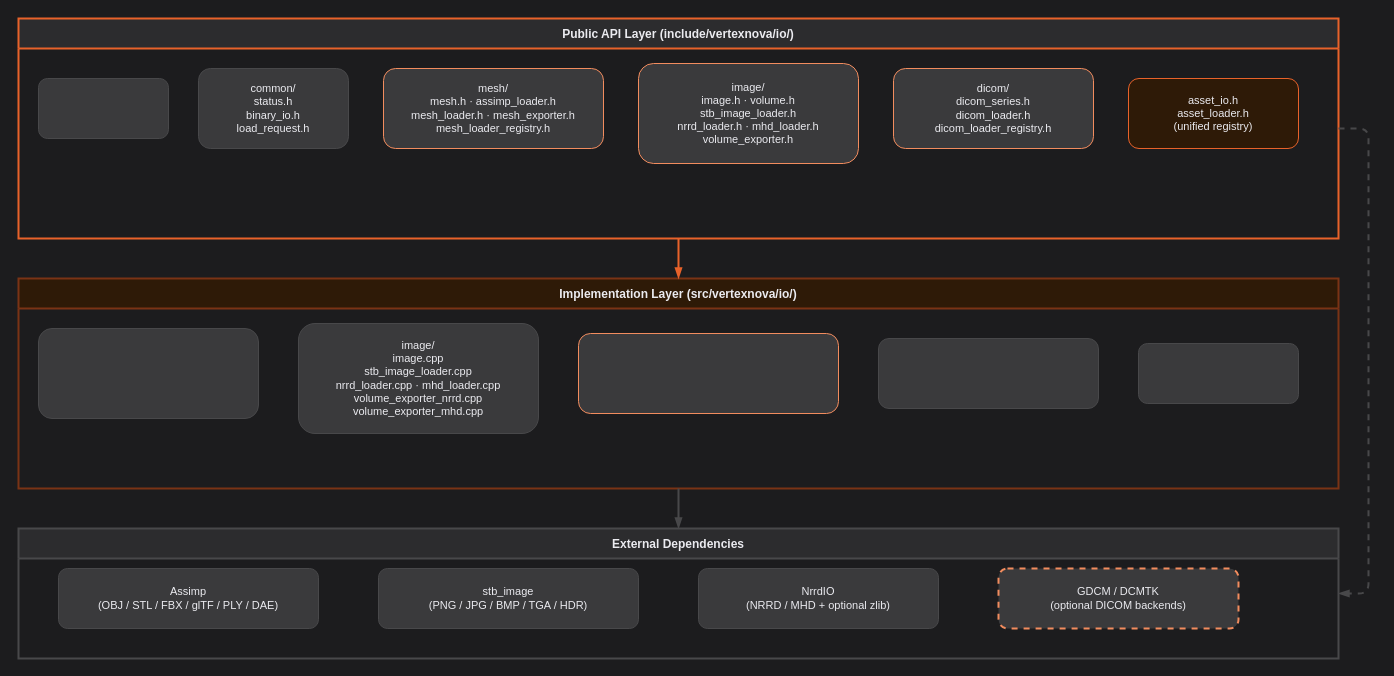
The diagram is 1394 pixels wide and 676 high, and some of its shapes have lost their labels. Each missing label, with the centre of its shape:
"asset_io.cpp (routes requests to loaders)" goes at (988,373).
"dicom/ dicom_loader_registry.cpp (+ optional GDCM / DCMTK adapter)" goes at (708,373).
"mesh/ assimp_loader.cpp mesh_loader_registry.cpp mesh_exporter_obj.cpp" goes at (148,373).
"utils/ path_utils.cpp" goes at (1218,373).
"vneio.h (umbrella)" goes at (103,108).
